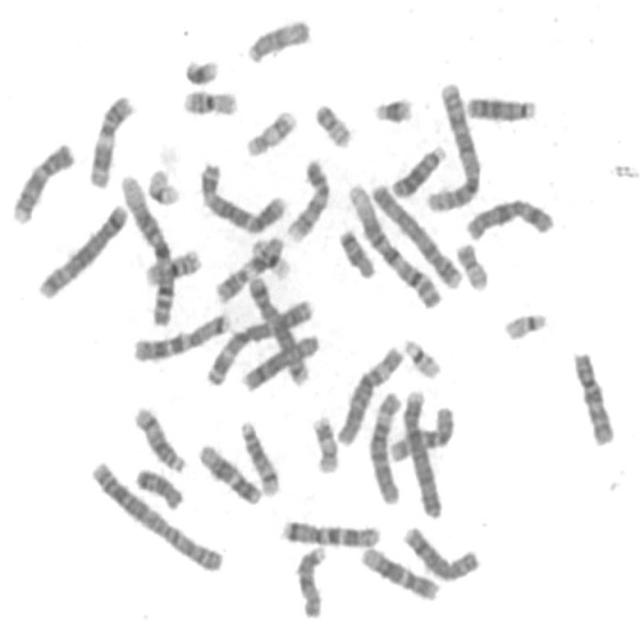A1: (342, 176, 446, 311), (115, 166, 177, 329)
A2: (84, 454, 225, 574), (421, 77, 482, 214)
A3: (199, 293, 317, 387), (193, 155, 290, 235)
B4: (365, 177, 464, 291), (398, 383, 445, 520)
B5: (32, 197, 130, 301), (243, 270, 312, 388)
C10: (566, 343, 617, 448), (385, 401, 457, 464)
C11: (210, 228, 286, 304), (83, 88, 136, 190)
C12: (356, 540, 442, 603), (192, 436, 263, 506)
C6: (332, 339, 406, 447), (364, 385, 404, 506)
C7: (126, 306, 233, 363), (276, 513, 383, 549)
C8: (237, 327, 321, 393), (398, 520, 483, 584)
C9: (7, 136, 76, 226), (281, 152, 332, 244)
D13: (386, 138, 448, 200), (461, 88, 538, 124)
D14: (128, 400, 188, 474), (234, 414, 282, 499)
D15: (241, 12, 313, 65), (292, 540, 329, 620)
E16: (140, 242, 203, 287), (177, 83, 240, 117)
E17: (240, 103, 298, 158), (307, 408, 340, 476)
E18: (130, 461, 186, 512), (334, 222, 378, 281)
F19: (245, 232, 292, 280), (142, 162, 182, 207)
F20: (309, 96, 354, 150), (451, 236, 491, 293)
G21: (368, 90, 415, 126), (179, 51, 221, 86)
G22: (398, 332, 444, 381), (498, 306, 550, 342)
X: (460, 192, 557, 242)
